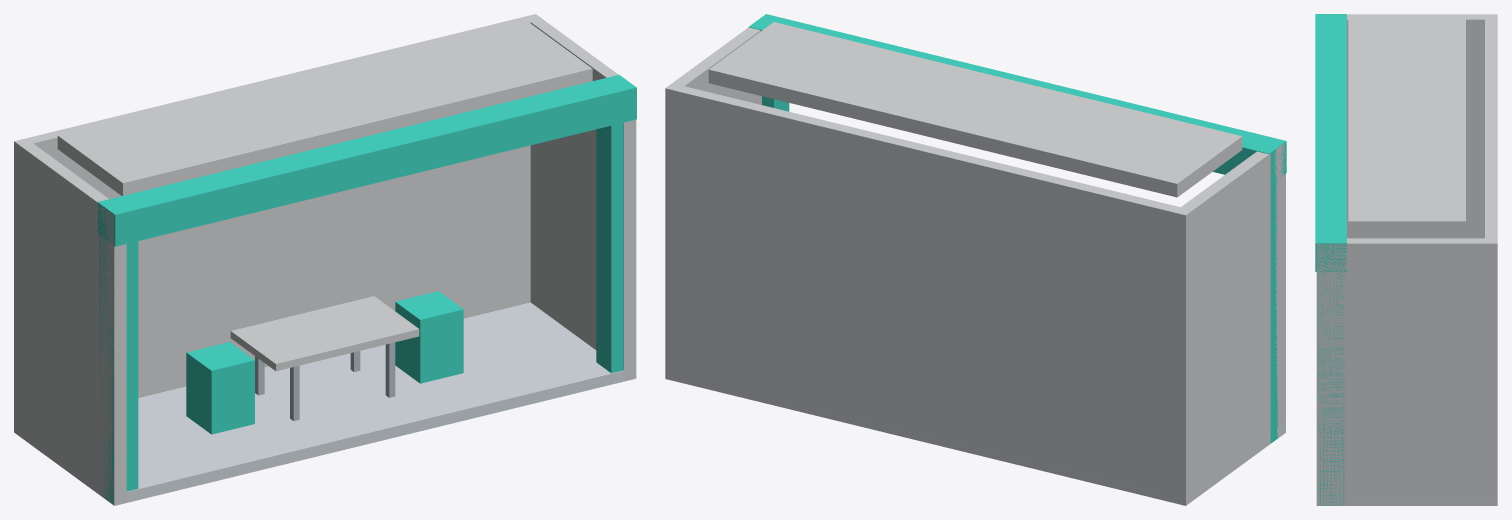
3 views of the same model, side by side, from view 1: azimuth 30°, elevation 25°; view 2: azimuth 150°, elevation 25°; view 3: azimuth 270°, elevation 25° (orthographic). The views are drawn at different scales.
Parts seen in each view (by area): view 1: Exhibition Booth Concept; view 2: Exhibition Booth Concept; view 3: Exhibition Booth Concept.
Part boxes in pixels (left/top/right/bottom): Exhibition Booth Concept: left=14, top=14, right=636, bottom=505; Exhibition Booth Concept: left=665, top=14, right=1286, bottom=505; Exhibition Booth Concept: left=1315, top=14, right=1497, bottom=505.
Bounding box in the file's own units: 6 × 3.34 × 2.01.
